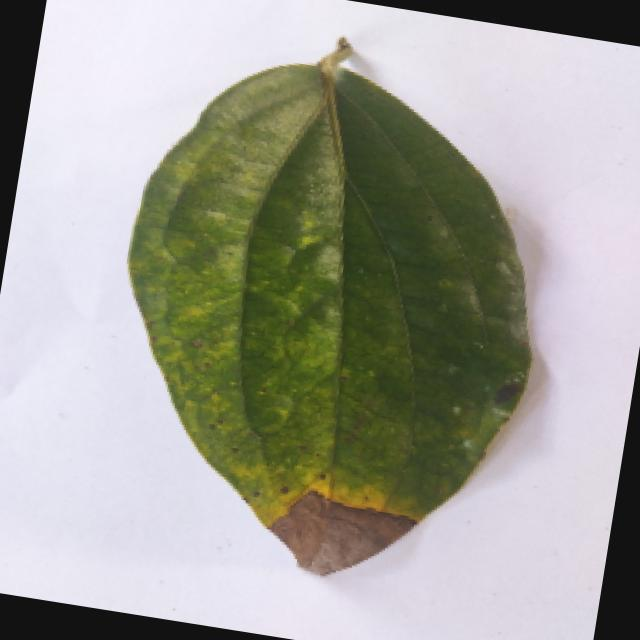footrot: (72, 21, 598, 612)
